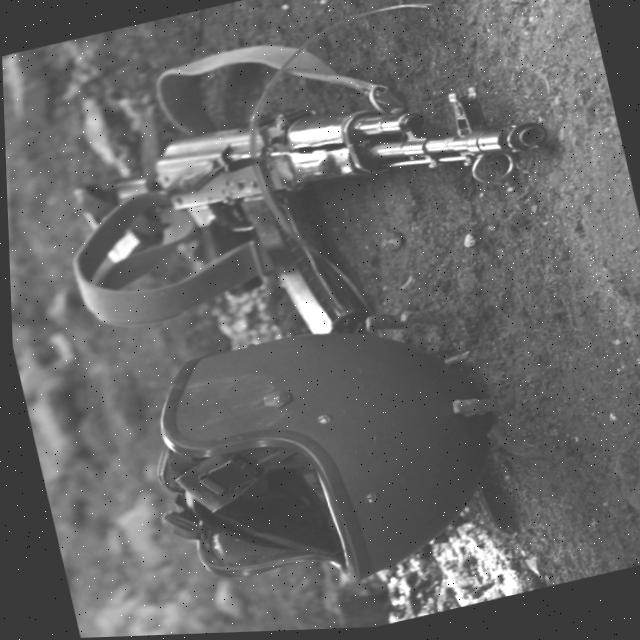firearm: (90, 57, 578, 369)
